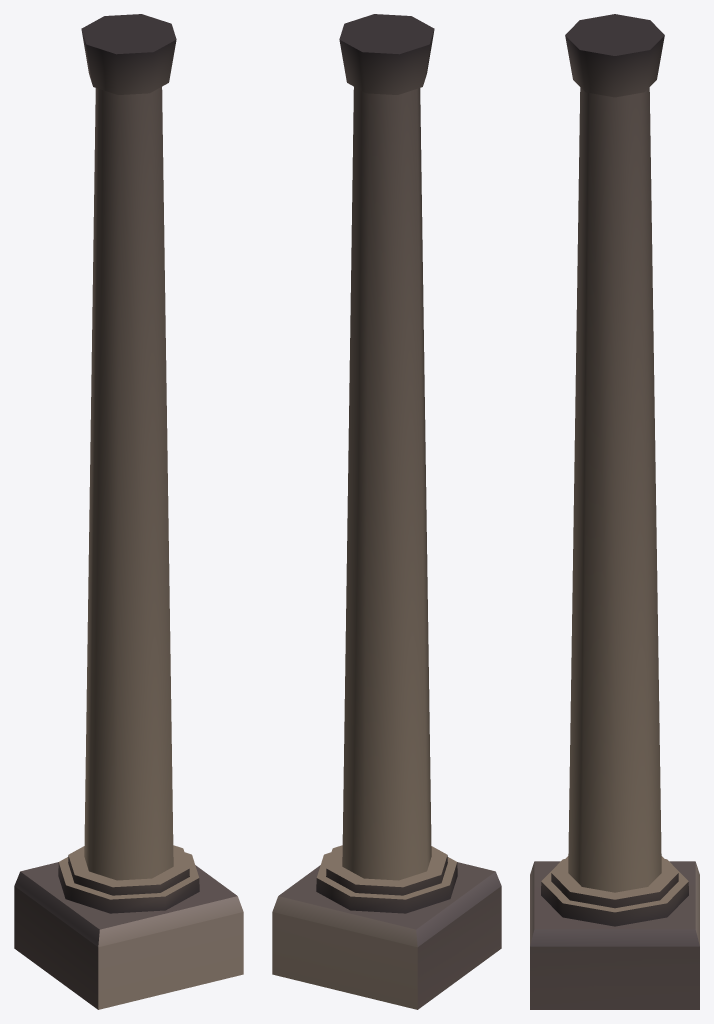
File: buildings-ruins-ancientruins_v3.glb
3 renders of one model, left to right at view 1: azimuth 30°, elevation 25°; view 2: azimuth 150°, elevation 25°; view 3: azimuth 270°, elevation 25°, orthographic.
Visible parts, largest first — view 1: AncientRuins_v3; view 2: AncientRuins_v3; view 3: AncientRuins_v3.
Boxes of the visible parts, x1,y1,x2,y2 form: AncientRuins_v3: (14,14,243,1009); AncientRuins_v3: (272,14,501,1009); AncientRuins_v3: (530,14,699,1009).
Bounding box in the file's own units: 1.43 × 8.7 × 1.43.
